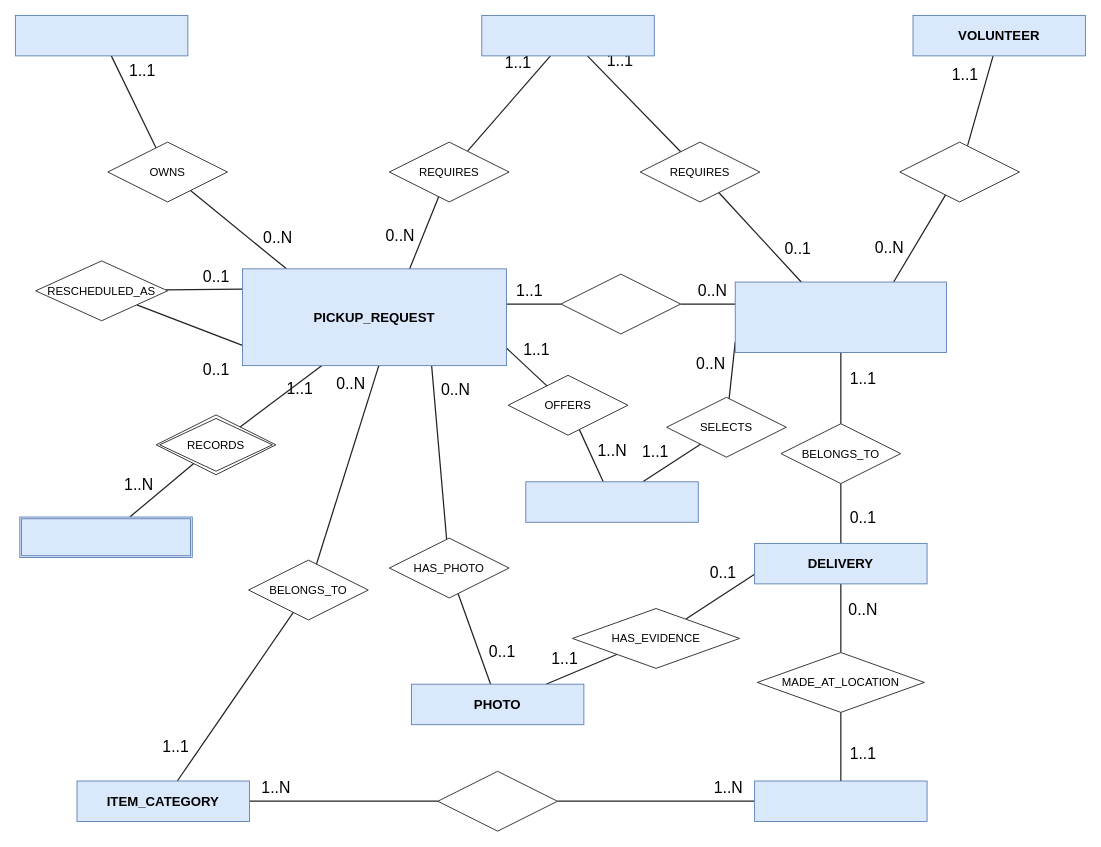
The diagram is 1101 pixels wide and 847 high, and some of its shapes have lost their labels. The shapes that lost their labels are listed below. From the top down, each one's centre as x and y in pixels, then its label:
the point at 101,35: RESIDENT
the point at 567,35: TERMS_ACCEPTANCE
the point at 959,171: TAKES
the point at 620,303: IS_FOR
the point at 840,316: ASSIGNMENT
the point at 611,501: PICKUP_WINDOW
the point at 105,536: STATUS_CHANGE
the point at 497,800: ACCEPTS
the point at 840,800: RECYCLING_FACILITY
